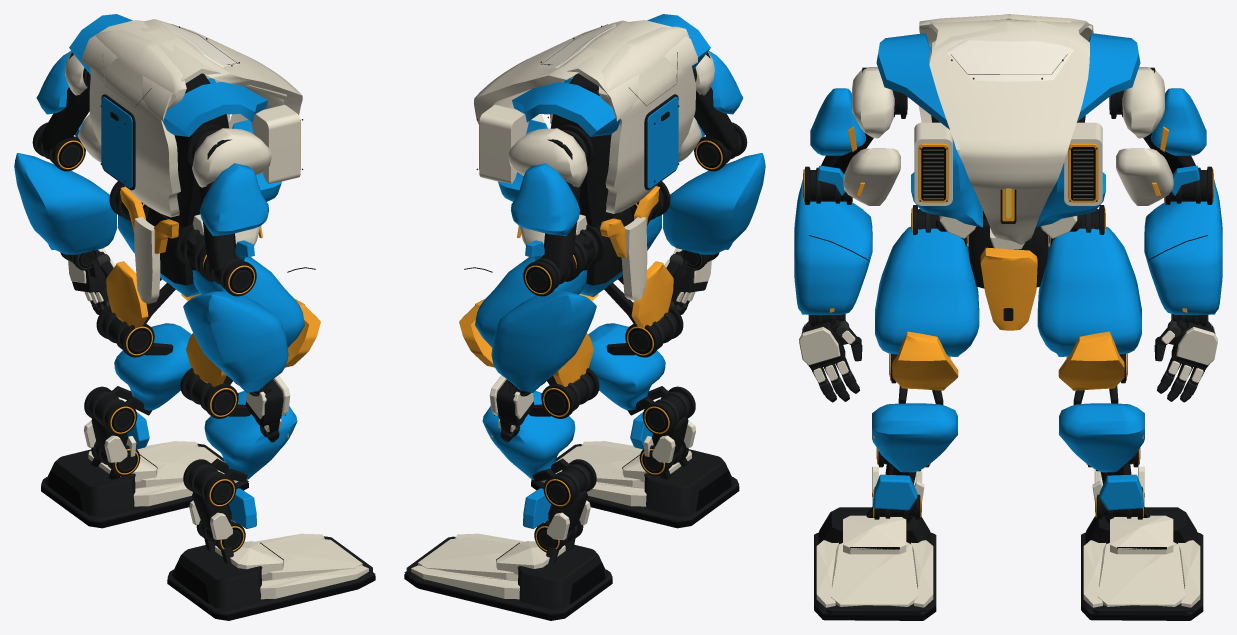
The model's file is appearance_c.glb.
The picture shows the model from 3 angles, left to right: view 1: azimuth 30°, elevation 25°; view 2: azimuth 150°, elevation 25°; view 3: azimuth 270°, elevation 25°; orthographic projection. The views are drawn at different scales.
Visible parts, largest first — view 1: ivory_curved_back_carapace, right_blue_forearm_wrap, left_blue_forearm_wrap, ivory_curved_front_carapace, left_blue_middle_shank_wrap, right_blue_deltoid_wrap, right_blue_middle_shank_wrap, right_blue_continuous_shoulder_sweep, left_black_stepped_heel, right_black_stepped_heel, ivory_continuous_crown_bridge, right_ivory_shoulder_cap (+35 smaller); view 2: ivory_curved_back_carapace, left_blue_forearm_wrap, right_blue_forearm_wrap, ivory_curved_front_carapace, right_blue_middle_shank_wrap, left_blue_deltoid_wrap, left_blue_middle_shank_wrap, left_blue_continuous_shoulder_sweep, right_black_stepped_heel, left_black_stepped_heel, ivory_continuous_crown_bridge, left_ivory_shoulder_cap (+34 smaller); view 3: ivory_curved_front_carapace, left_blue_thigh_wrap, right_blue_thigh_wrap, left_blue_forearm_wrap, right_blue_forearm_wrap, left_blue_middle_shank_wrap, right_blue_middle_shank_wrap, left_ivory_toe_dorsal, right_ivory_toe_dorsal, ivory_crown_inset, saffron_front_pelvis_cartridge, right_blue_continuous_shoulder_sweep (+36 smaller).
Part boxes in pixels (x1,y1,x2,y2): ivory_curved_back_carapace: [89, 29, 186, 217]; right_blue_forearm_wrap: [183, 291, 288, 392]; left_blue_forearm_wrap: [14, 153, 116, 254]; ivory_curved_front_carapace: [139, 19, 302, 128]; left_blue_middle_shank_wrap: [114, 323, 191, 410]; right_blue_deltoid_wrap: [199, 163, 268, 235]; right_blue_middle_shank_wrap: [204, 390, 297, 479]; right_blue_continuous_shoulder_sweep: [163, 81, 267, 136]; left_black_stepped_heel: [45, 449, 135, 516]; right_black_stepped_heel: [171, 545, 262, 609]; ivory_continuous_crown_bridge: [82, 20, 286, 121]; right_ivory_shoulder_cap: [192, 128, 271, 187]; ivory_curved_back_carapace: [598, 26, 696, 213]; left_blue_forearm_wrap: [491, 291, 596, 392]; right_blue_forearm_wrap: [663, 153, 765, 254]; ivory_curved_front_carapace: [474, 20, 630, 124]; right_blue_middle_shank_wrap: [588, 323, 665, 410]; left_blue_deltoid_wrap: [511, 163, 580, 235]; left_blue_middle_shank_wrap: [482, 390, 575, 479]; left_blue_continuous_shoulder_sweep: [512, 82, 620, 136]; right_black_stepped_heel: [644, 449, 734, 516]; left_black_stepped_heel: [517, 544, 608, 609]; ivory_continuous_crown_bridge: [567, 20, 697, 121]; left_ivory_shoulder_cap: [508, 128, 587, 187]; ivory_curved_front_carapace: [929, 21, 1089, 244]; left_blue_thigh_wrap: [1037, 226, 1141, 356]; right_blue_thigh_wrap: [875, 226, 979, 356]; left_blue_forearm_wrap: [1144, 179, 1222, 314]; right_blue_forearm_wrap: [794, 179, 872, 314]; left_blue_middle_shank_wrap: [1059, 403, 1144, 472]; right_blue_middle_shank_wrap: [872, 403, 957, 472]; left_ivory_toe_dorsal: [1098, 542, 1185, 606]; right_ivory_toe_dorsal: [831, 542, 918, 606]; ivory_crown_inset: [946, 39, 1073, 81]; saffron_front_pelvis_cartridge: [980, 247, 1037, 330]; right_blue_continuous_shoulder_sweep: [876, 33, 949, 129].
Bounding box in the file's own units: 0.9806 × 2.65 × 1.93.
